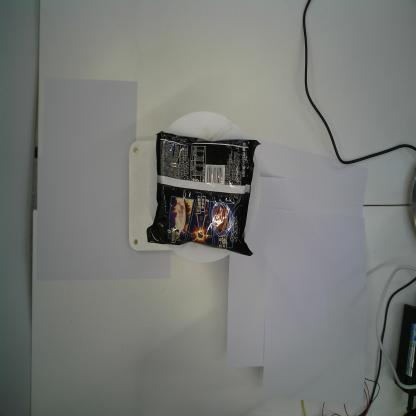Instant Noodles: (145, 127, 262, 256)
